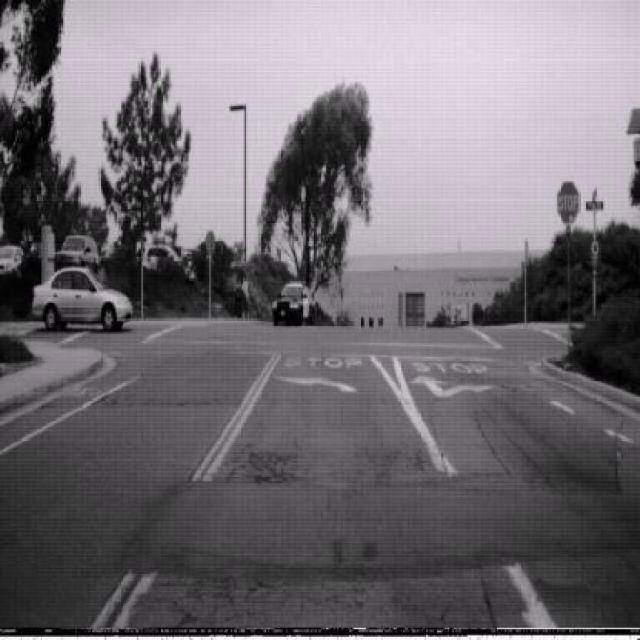stop: (555, 178, 580, 226)
